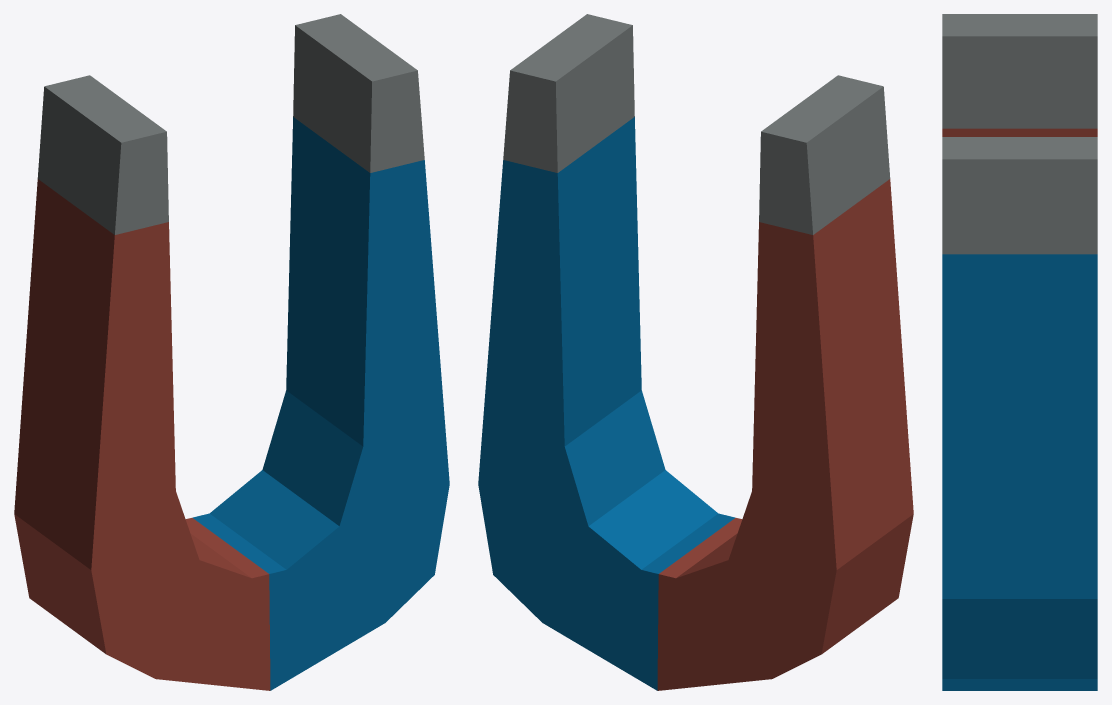
Rendered from SM_Magnet.fbx.
The picture shows the model from 3 angles, left to right: view 1: azimuth 30°, elevation 25°; view 2: azimuth 150°, elevation 25°; view 3: azimuth 270°, elevation 25°; orthographic projection.
Visible parts, largest first — view 1: SM_Magnet; view 2: SM_Magnet; view 3: SM_Magnet.
Boxes of the visible parts, x1=… form: SM_Magnet: x1=14, y1=14, x2=449, y2=690; SM_Magnet: x1=478, y1=14, x2=913, y2=690; SM_Magnet: x1=942, y1=14, x2=1097, y2=690.
Size of the model in its own units: 15.54 by 24.22 by 5.79.
